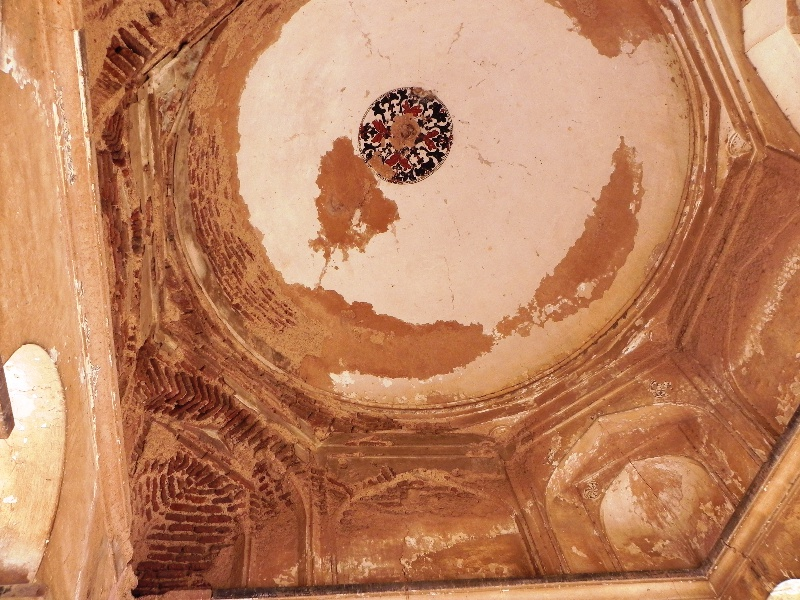Exposed Bricks: (137, 354, 266, 576)
Spalling: (512, 148, 633, 341)
